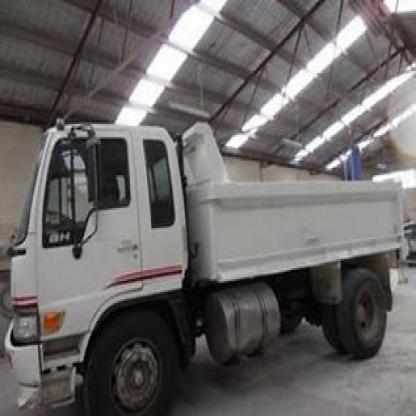dump_truck: (5, 93, 415, 414)
